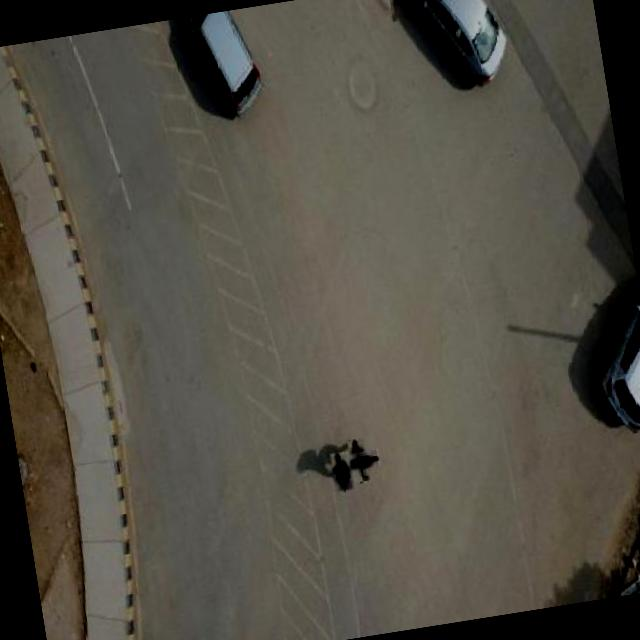Person: (340, 444, 376, 479), (329, 452, 354, 494)
